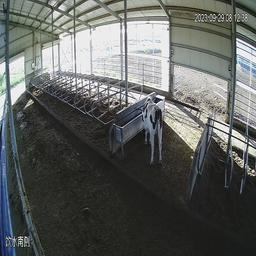cow: (137, 87, 168, 174)
